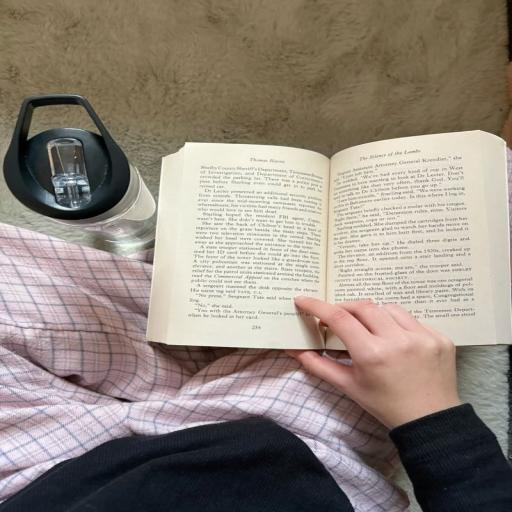bed: (147, 130, 511, 350)
bench: (3, 94, 155, 244)
laptop: (0, 226, 511, 511)
person: (0, 0, 509, 197)
